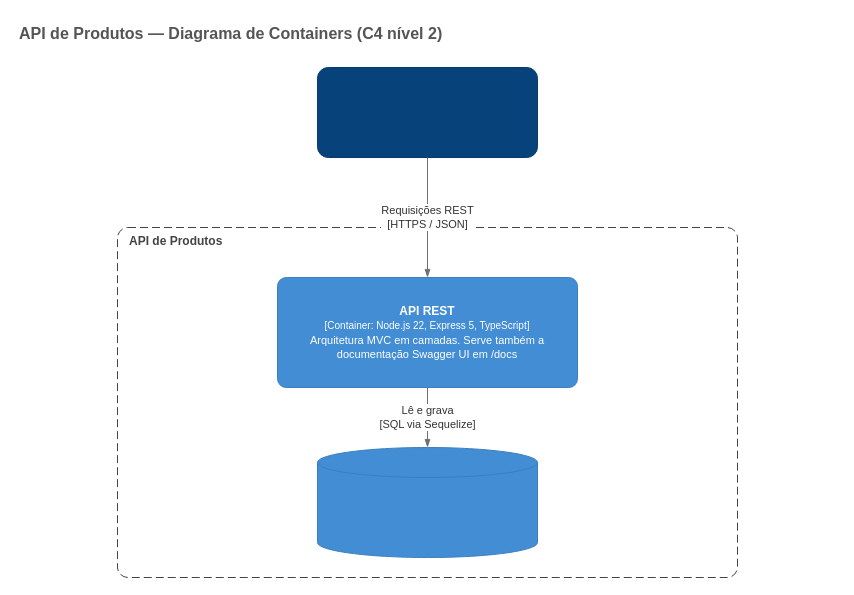
The diagram is 854 pixels wide and 595 high, and some of its shapes have lost their labels. The centre of each missing label's shape, as x and y in pixels:
Banco de dados [Container: SQLite] Tabela produtos (arquivo local): point (427, 502)
Parceiro [Pessoa / sistema externo]: point (427, 112)
